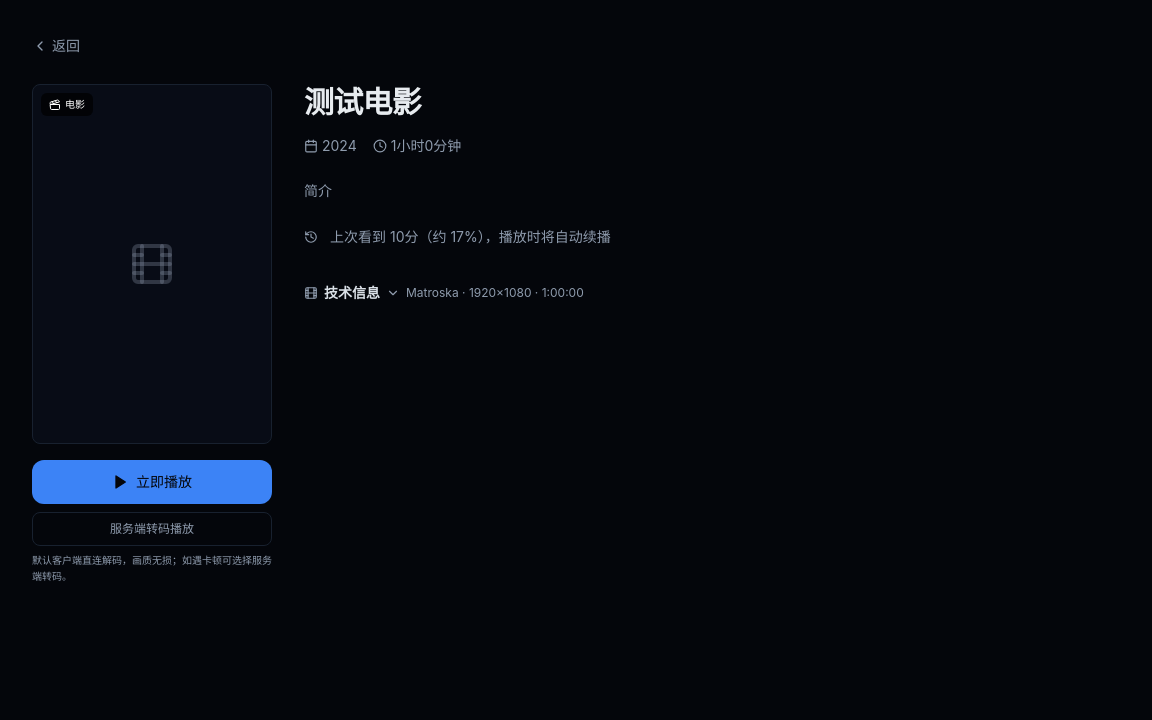
Test: Detail page: technical info + progress wiring › probes technical info and shows progress for a Movie
The width and height of the screenshot is (1152, 720).
Check: the text "上次看到 10分（约 17%），播放时将自动续播" is shown, box [330,227,611,247]
Note: Technical info collapses behind its toggle.
Step 1. Click the button "技术信息 Matroska · 1920×1080 · 1:00:00" → [444, 293], box [304,279,584,307]
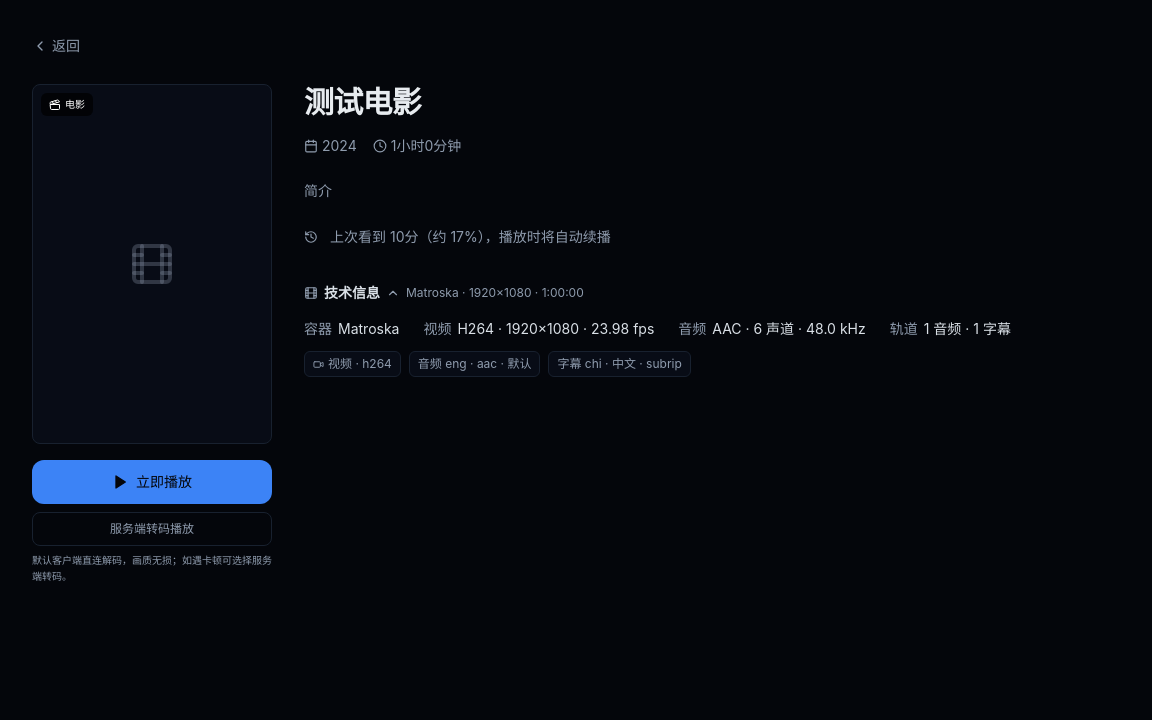
Check: the text "Matroska" is shown, box [338,319,400,339]
